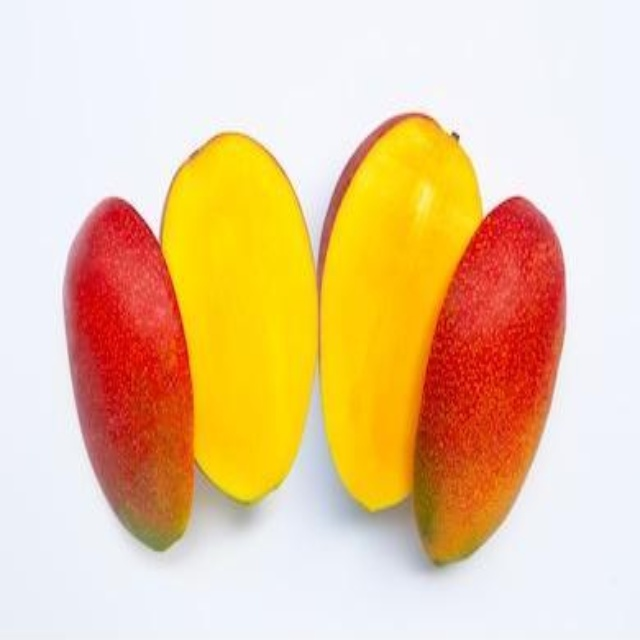mango: (318, 112, 569, 570), (65, 135, 308, 548)
